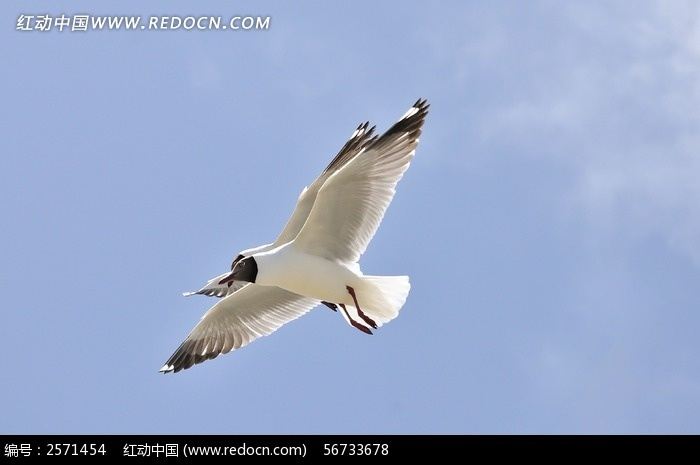bird: (159, 98, 436, 375)
